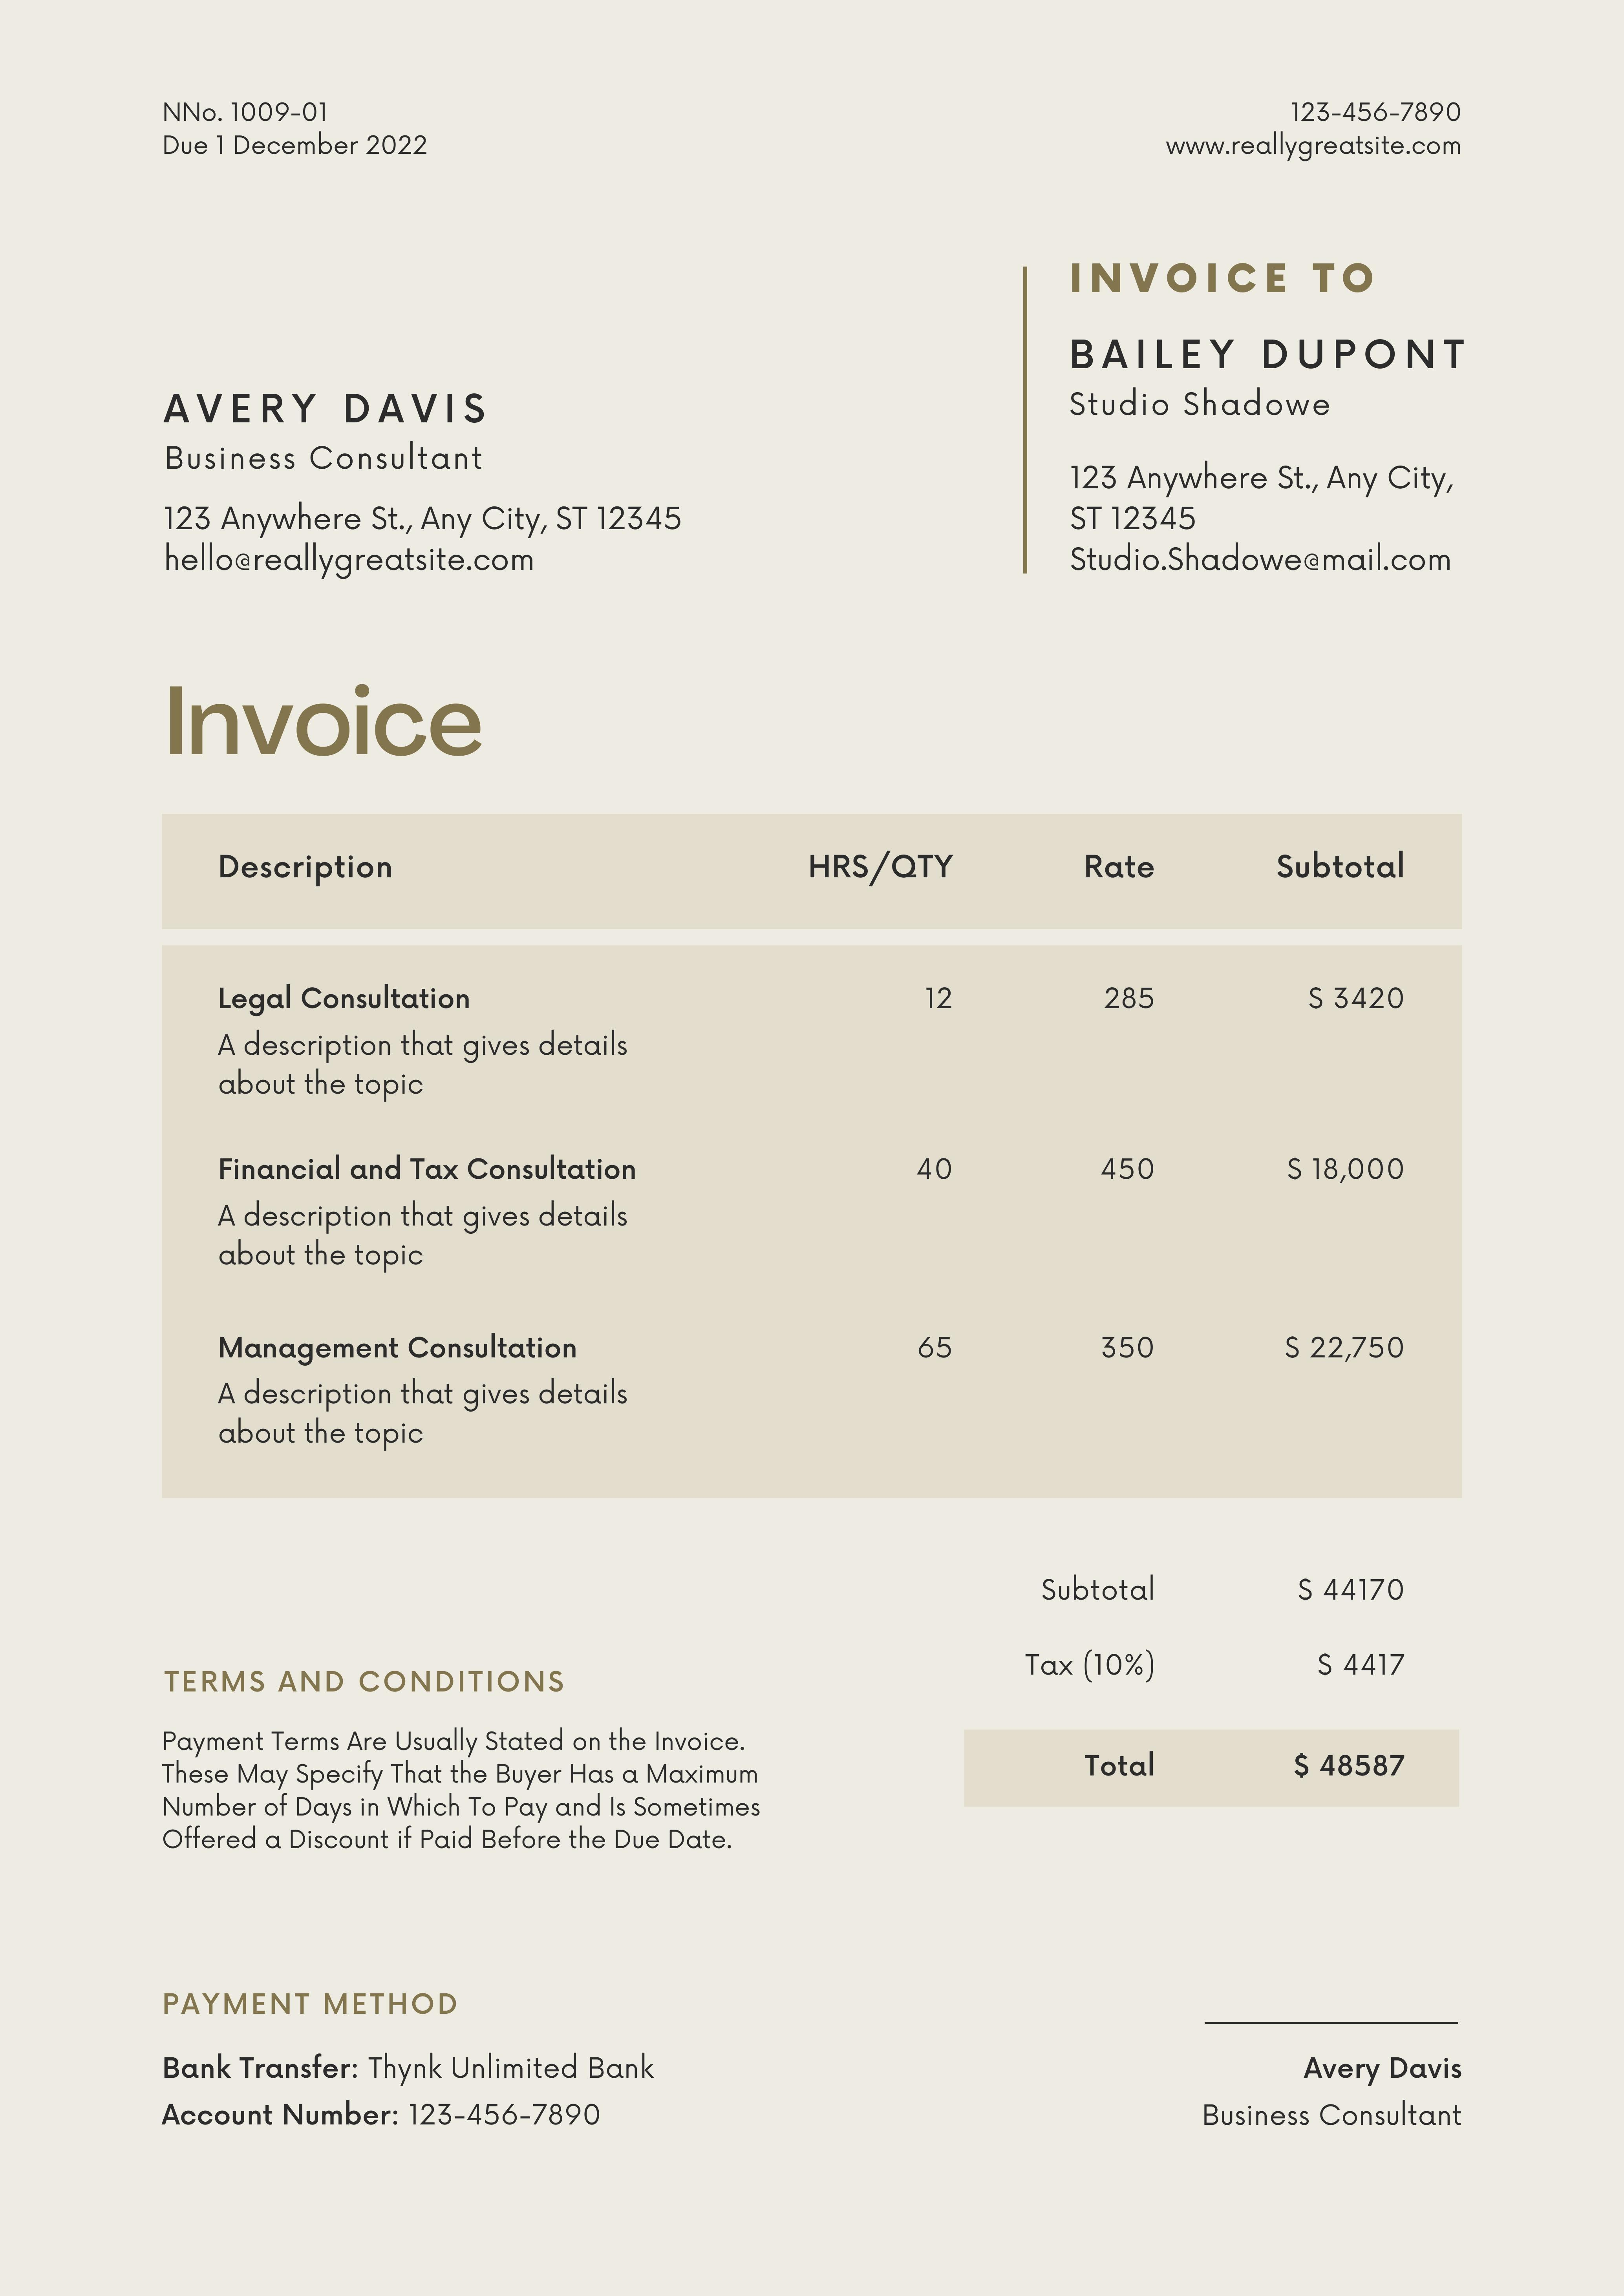ROI: (165, 815, 1461, 1497), (1058, 246, 1519, 574), (146, 358, 703, 610), (961, 1544, 1455, 1804), (120, 1973, 772, 2134), (149, 86, 482, 181)
